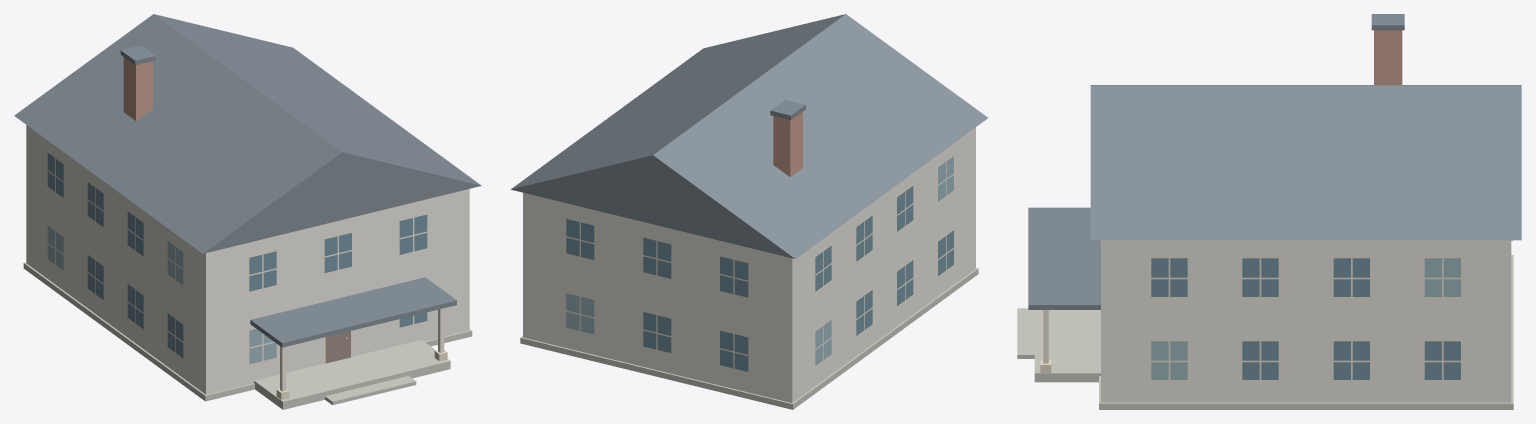
The model's file is house-farmhouse-white.glb.
3 views of the same model, side by side, from view 1: azimuth 30°, elevation 25°; view 2: azimuth 150°, elevation 25°; view 3: azimuth 270°, elevation 25° (orthographic). The views are drawn at different scales.
Visible parts, largest first — view 1: house-farmhouse-white; view 2: house-farmhouse-white; view 3: house-farmhouse-white.
Boxes of the visible parts, bbox=[...] form: house-farmhouse-white: bbox=[14, 14, 481, 409]; house-farmhouse-white: bbox=[511, 14, 987, 409]; house-farmhouse-white: bbox=[1017, 14, 1521, 409].
Size of the model in its own units: 11.65 by 9.61 by 15.98.
